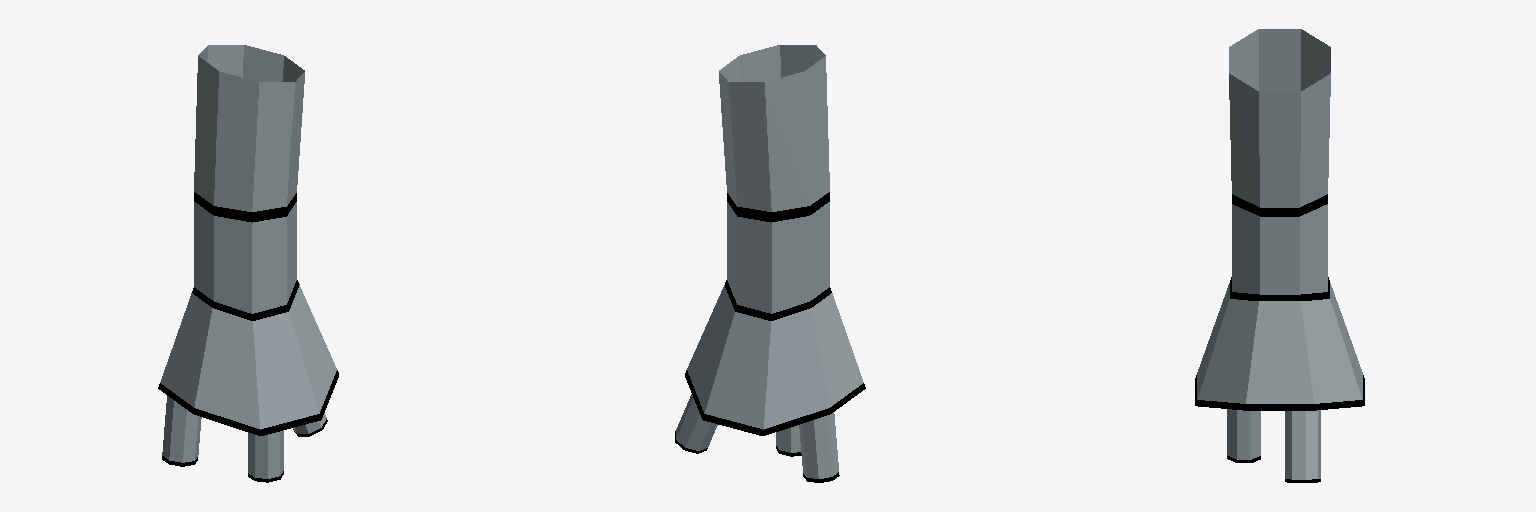
3 views of the same model, side by side, from view 1: azimuth 30°, elevation 25°; view 2: azimuth 150°, elevation 25°; view 3: azimuth 270°, elevation 25° (orthographic).
Visible parts, largest first — view 1: brazo2_1, brazo2_002; view 2: brazo2_1, brazo2_002; view 3: brazo2_1, brazo2_002.
Boxes of the visible parts, box(x1,y1,x2,y2) form: brazo2_1: box(158, 45, 338, 435); brazo2_002: box(162, 396, 327, 482); brazo2_1: box(685, 45, 865, 435); brazo2_002: box(675, 394, 839, 482); brazo2_1: box(1195, 29, 1364, 410); brazo2_002: box(1227, 409, 1320, 482).
Size of the model in its own units: 0.2987 by 0.7242 by 0.2721.
Materials: 4 (1 with a texture image).